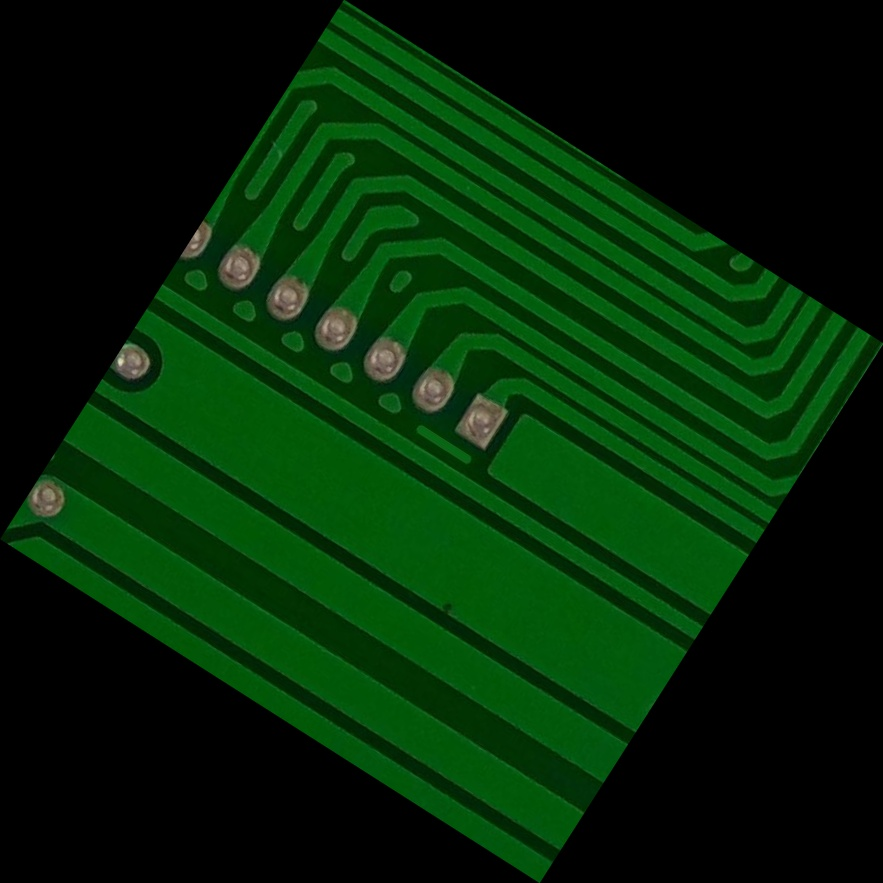spurious_copper: (396, 405, 487, 479)
